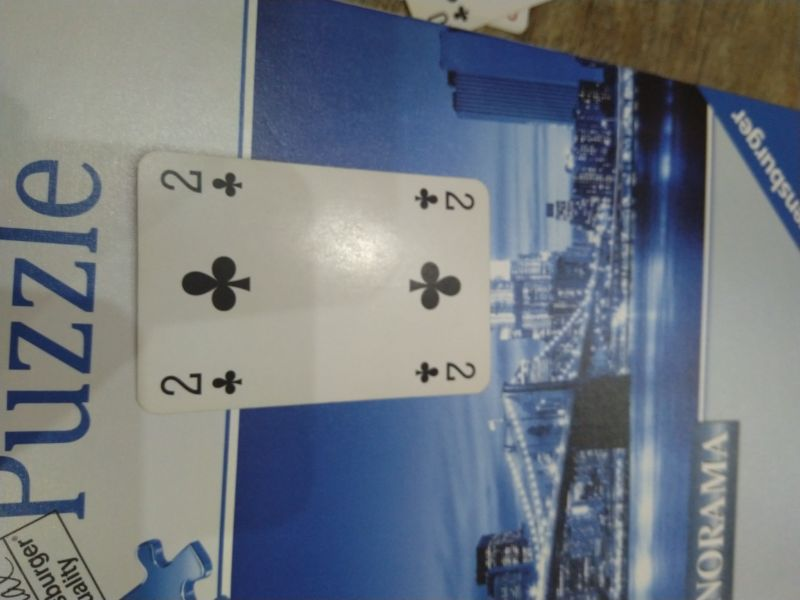2c: (157, 164, 247, 200), (157, 367, 246, 400), (407, 183, 477, 216), (409, 356, 481, 385)
